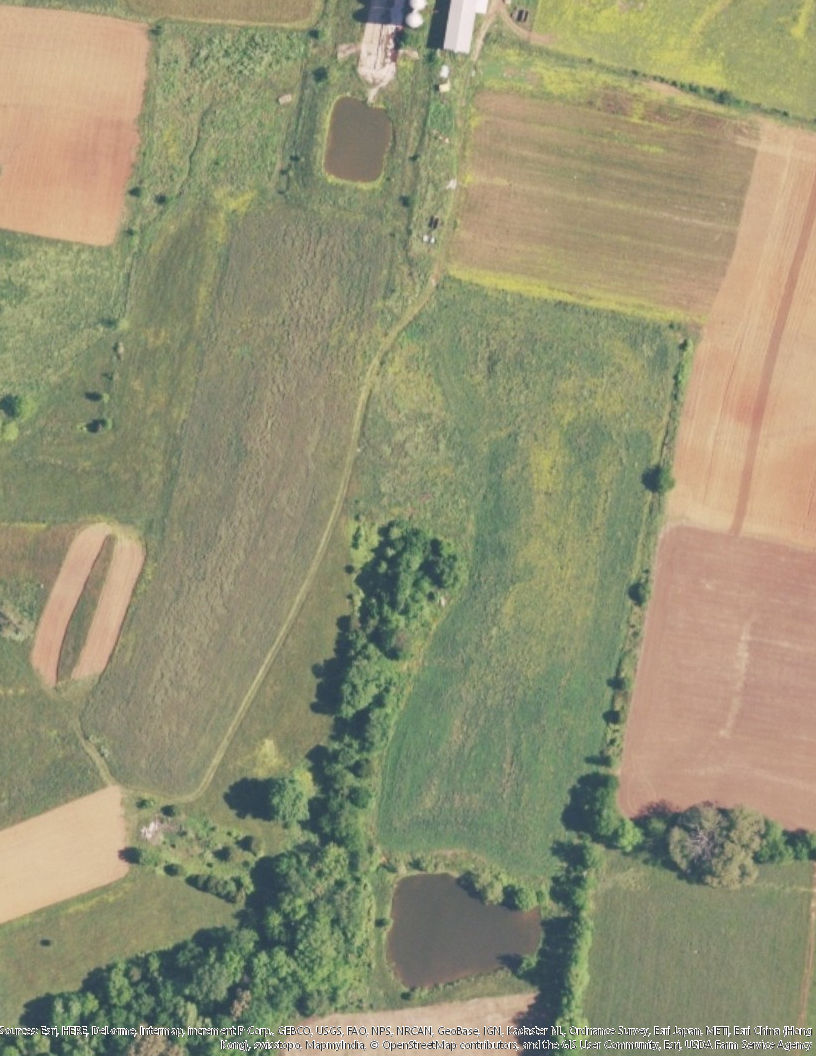cafo: (440, 1, 485, 56)
